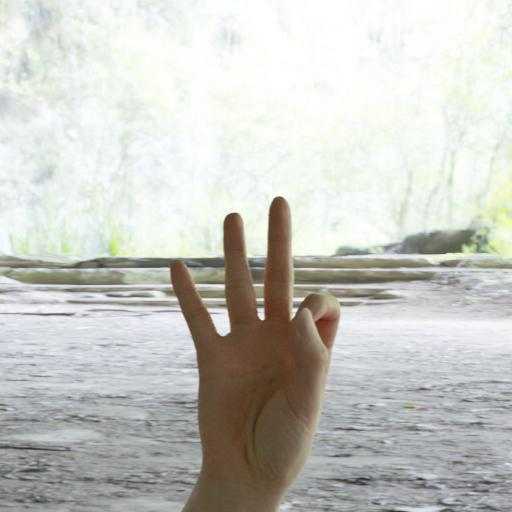F: (156, 183, 358, 496)
